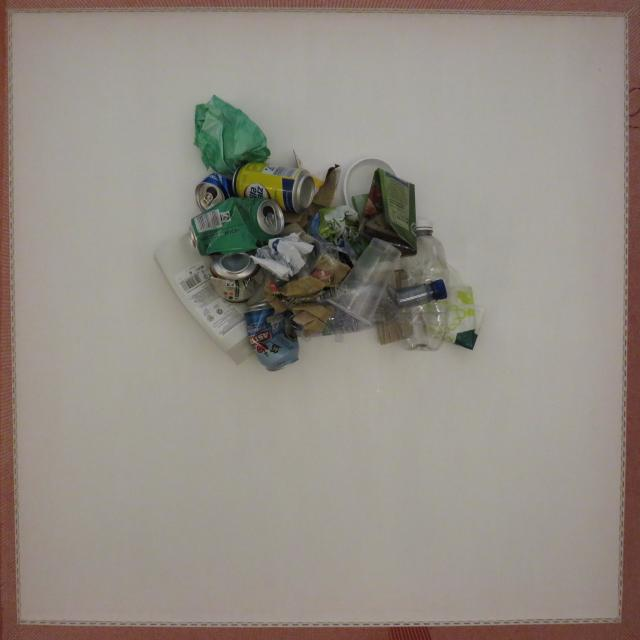cardboard: (284, 164, 341, 227), (372, 269, 413, 345), (292, 302, 335, 337), (277, 223, 315, 244)
hard_plastic: (155, 233, 252, 364), (306, 279, 447, 337), (395, 221, 450, 351), (329, 238, 401, 324), (343, 158, 395, 208)
metal: (190, 197, 284, 255), (233, 162, 315, 213), (244, 300, 299, 371), (210, 253, 263, 303), (195, 173, 233, 211)
soft_plastic: (247, 241, 353, 314), (194, 95, 270, 176), (352, 168, 416, 256), (421, 263, 485, 349), (310, 205, 362, 263), (251, 233, 313, 280)
